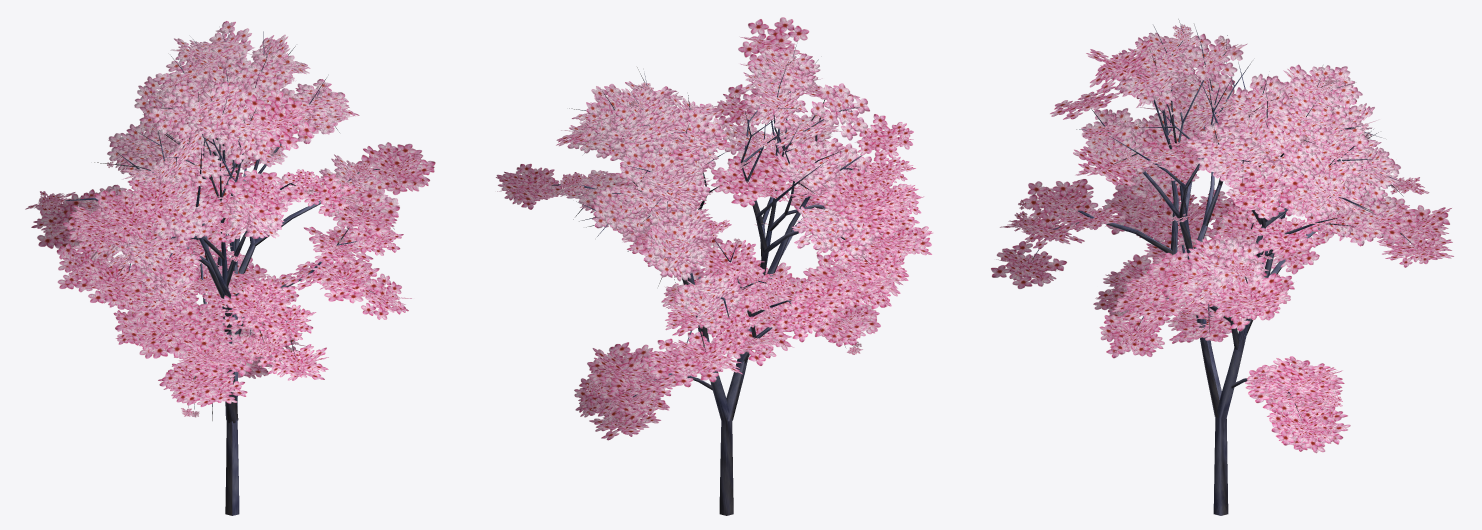
File: Sakura01_Art.glb
The picture shows the model from 3 angles, left to right: view 1: azimuth 30°, elevation 25°; view 2: azimuth 150°, elevation 25°; view 3: azimuth 270°, elevation 25°; orthographic projection. The views are drawn at different scales.
Parts seen in each view (by area): view 1: Sakura01_Art; view 2: Sakura01_Art; view 3: Sakura01_Art.
Part boxes in pixels (x1,y1,x2,y2): Sakura01_Art: [25, 21, 435, 515]; Sakura01_Art: [495, 17, 933, 515]; Sakura01_Art: [991, 19, 1454, 515].
Bounding box in the file's own units: 5.89 × 6.27 × 5.86.
2 materials, 2 textured.
